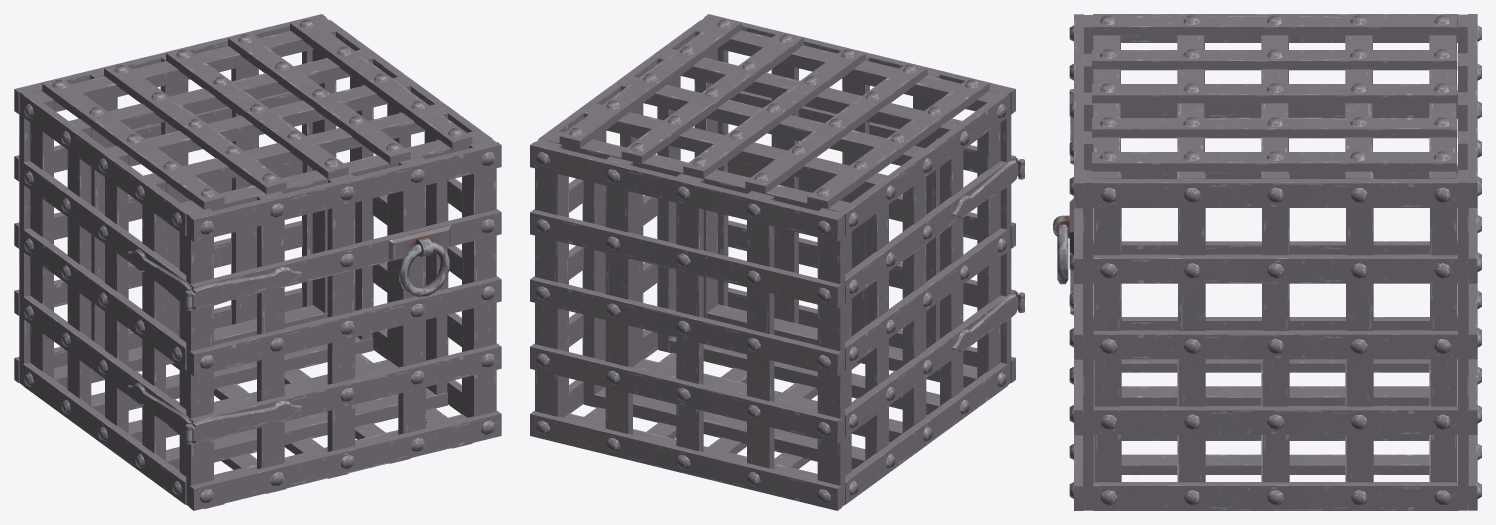
The model's file is cage_small.glb.
The picture shows the model from 3 angles, left to right: view 1: azimuth 30°, elevation 25°; view 2: azimuth 150°, elevation 25°; view 3: azimuth 270°, elevation 25°; orthographic projection. The views are drawn at different scales.
Parts seen in each view (by area): view 1: Cage_Small; view 2: Cage_Small; view 3: Cage_Small.
Part boxes in pixels (left/top/right/bottom): Cage_Small: left=14, top=14, right=501, bottom=510; Cage_Small: left=530, top=14, right=1024, bottom=510; Cage_Small: left=1053, top=14, right=1481, bottom=510.
Size of the model in its own units: 0.8549 by 0.8052 by 0.8843.
1 material, 1 textured.
